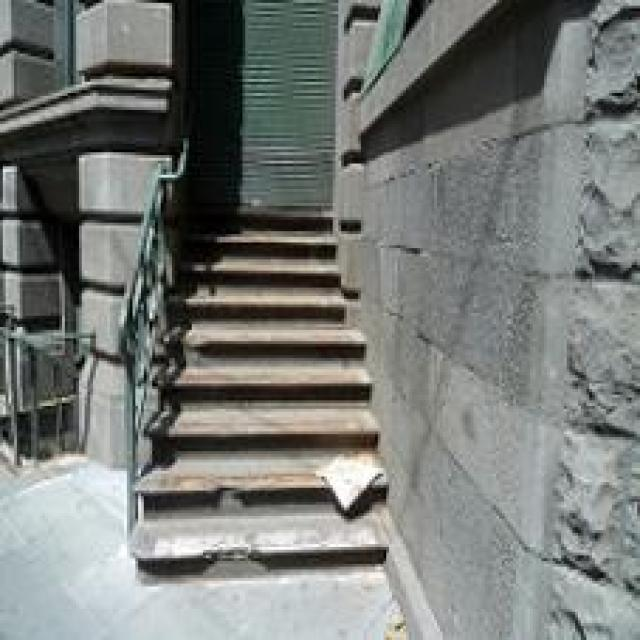stairs: (127, 200, 389, 570)
